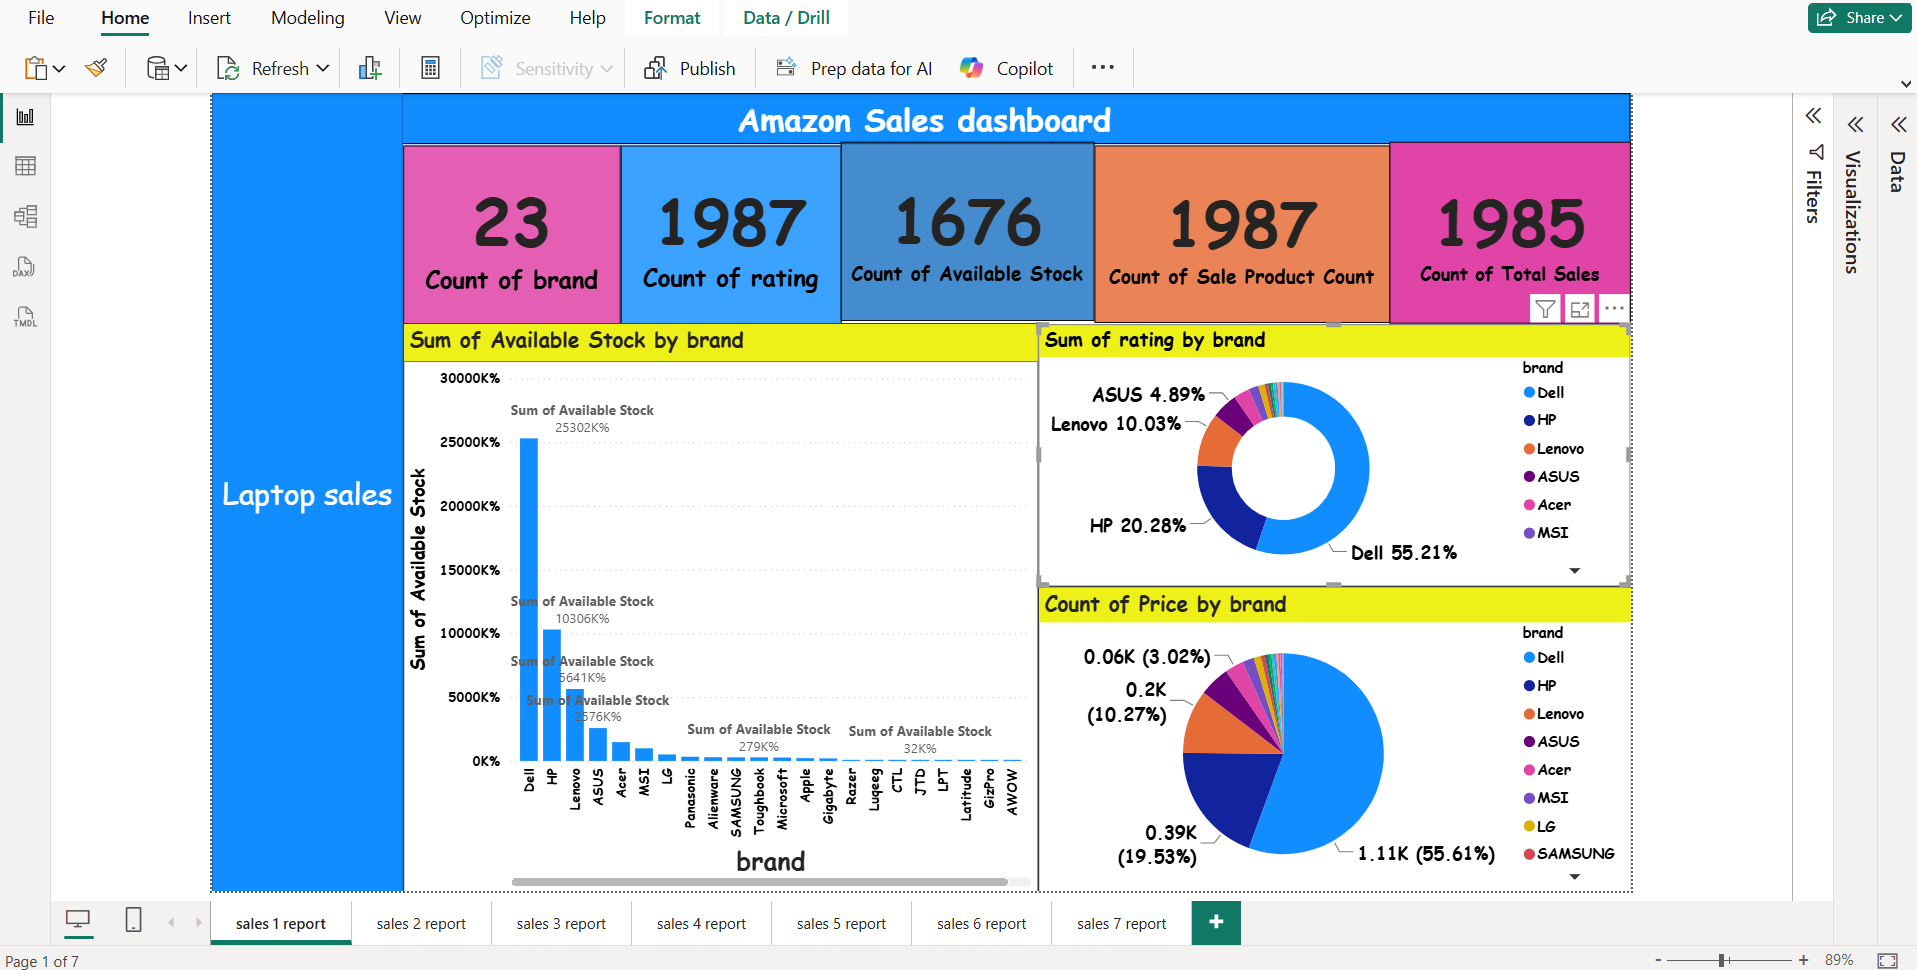

The page's visual inventory and layout, read from the dashboard file:
{"tool":"powerbi","page":{"name":"sales 1 report","canvas":[1280,720],"ordinal":0},"visuals":[{"type":"shape","box":[6.1,0,1273.4,46.1],"z":0},{"type":"card","fields":{"Values":["Count(amazon_laptop sales report project.brand)"]},"box":[172.1,47,196.3,161.3],"z":1000},{"type":"card","fields":{"Values":["CountNonNull(amazon_laptop sales report project.rating)"]},"box":[368.3,47,198.9,161.3],"z":2000},{"type":"card","fields":{"Values":["CountNonNull(amazon_laptop sales report project.Available Stock)"]},"box":[567.2,44.4,228.5,161.3],"z":3000},{"type":"card","fields":{"Values":["CountNonNull(amazon_laptop sales report project.Sale Product Count)"]},"box":[795.8,47,266.1,160],"z":4000},{"type":"clusteredColumnChart","fields":{"Category":["amazon_laptop sales report project.brand"],"Y":["Sum(amazon_laptop sales report project.Available Stock)"]},"box":[172.1,207,572.6,513.5],"z":5000},{"type":"shape","box":[0,0,172.1,720.5],"z":6000},{"type":"donutChart","fields":{"Category":["amazon_laptop sales report project.brand"],"Y":["Sum(amazon_laptop sales report project.rating)"]},"box":[744.7,208.3,535,236.6],"z":7000},{"type":"card","fields":{"Values":["CountNonNull(amazon_laptop sales report project.Total Sales)"]},"box":[1061.9,44.4,217.8,164],"z":8000},{"type":"pieChart","fields":{"Category":["amazon_laptop sales report project.brand"],"Y":["CountNonNull(amazon_laptop sales report project.Price)"]},"box":[744.7,444.9,535,275.6],"z":9000}]}

Visuals, with their boxes on the page's 1280x720 design canvas (x1, y1, x2, y2). These are canvas units, not pixel positions in the 1917x970 screenshot, which may show the page scaled, cropped or inside an application window:
shape: 6/0/1280/46
card - Count(amazon_laptop sales report project.brand): 172/47/368/208
card - CountNonNull(amazon_laptop sales report project.rating): 368/47/567/208
card - CountNonNull(amazon_laptop sales report project.Available Stock): 567/44/796/206
card - CountNonNull(amazon_laptop sales report project.Sale Product Count): 796/47/1062/207
clusteredColumnChart - amazon_laptop sales report project.brand x Sum(amazon_laptop sales report project.Available Stock): 172/207/745/720
shape: 0/0/172/720
donutChart - amazon_laptop sales report project.brand x Sum(amazon_laptop sales report project.rating): 745/208/1280/445
card - CountNonNull(amazon_laptop sales report project.Total Sales): 1062/44/1280/208
pieChart - amazon_laptop sales report project.brand x CountNonNull(amazon_laptop sales report project.Price): 745/445/1280/720
